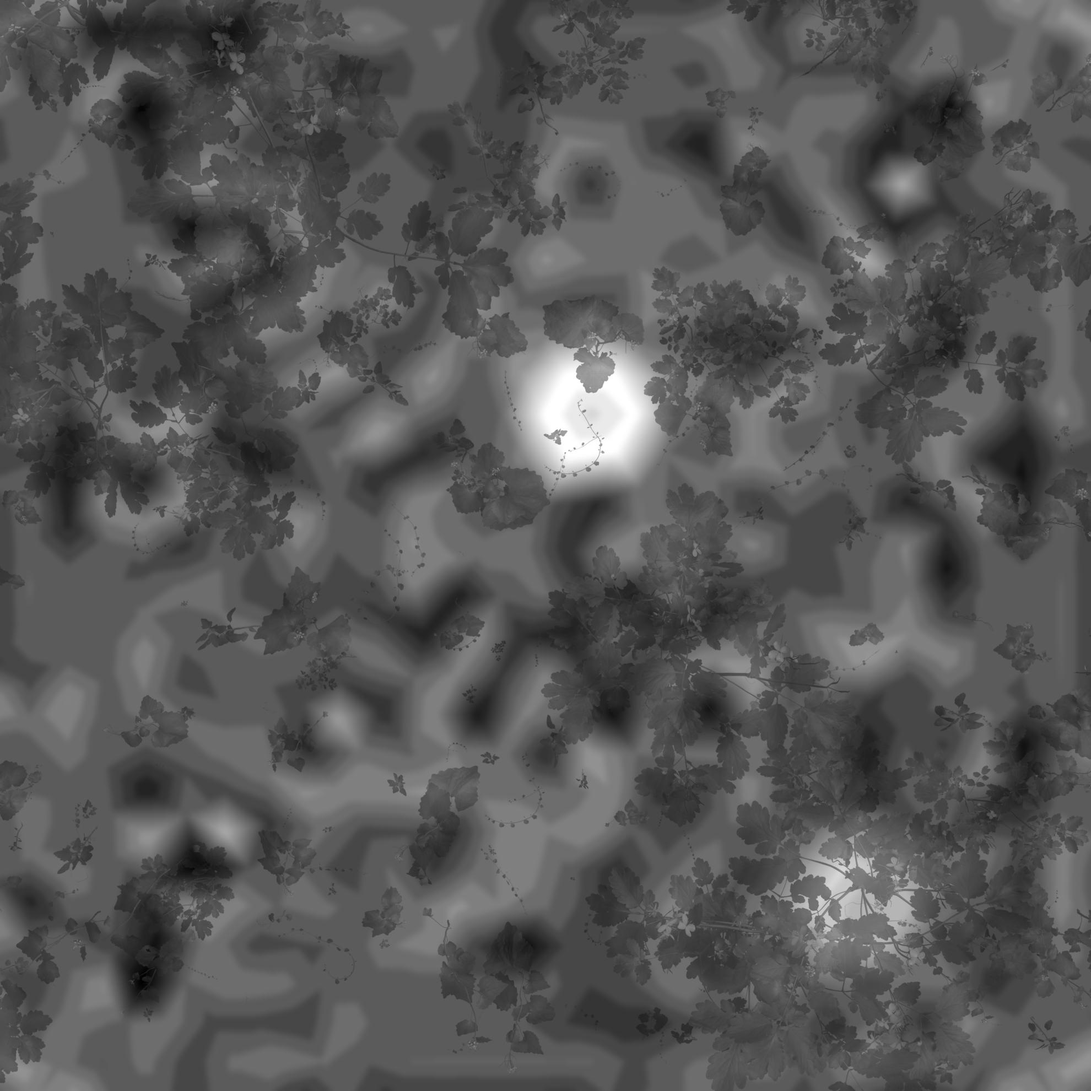landmine: (511, 333, 658, 491), (789, 824, 929, 958)
